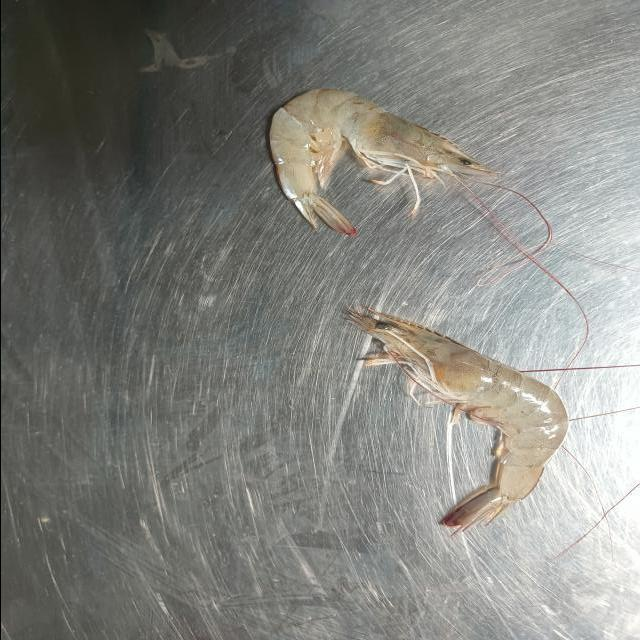shrimp: (346, 309, 567, 535), (268, 89, 497, 235)
